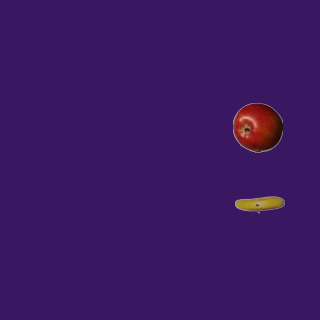Apple Braeburn: (232, 102, 282, 152)
Banana: (234, 179, 284, 229)
